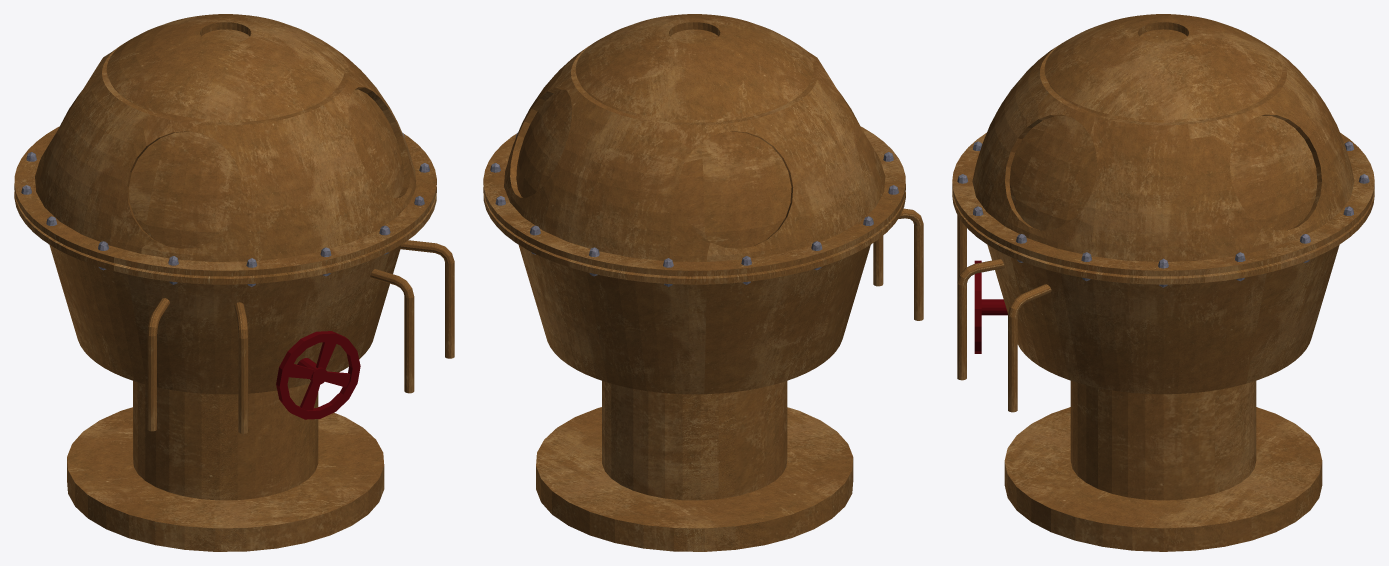
File: beer barrel fix.fbx
3 renders of one model, left to right at view 1: azimuth 30°, elevation 25°; view 2: azimuth 150°, elevation 25°; view 3: azimuth 270°, elevation 25°, orthographic.
Parts seen in each view (by area): view 1: Cube.008; view 2: Cube.008; view 3: Cube.008.
Boxes of the visible parts, left/top/right/bottom form: Cube.008: left=14, top=14, right=454, bottom=551; Cube.008: left=483, top=14, right=923, bottom=551; Cube.008: left=952, top=14, right=1374, bottom=551.
Bounding box in the file's own units: 282 × 332 × 282.
